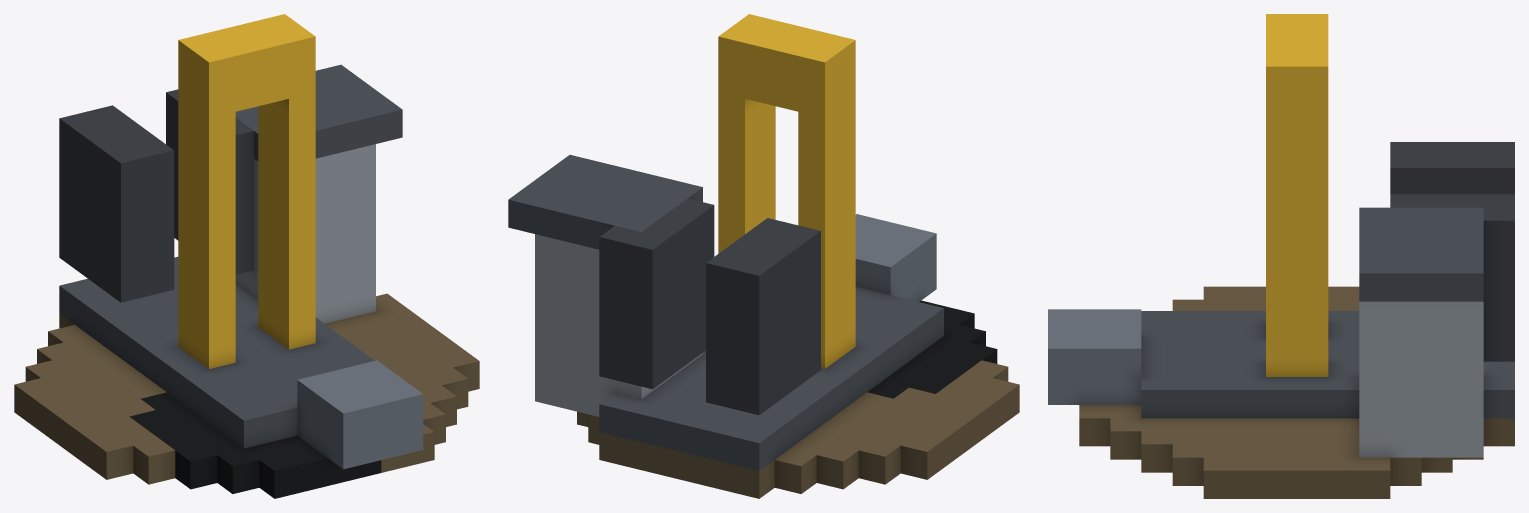
The model's file is cm_oil.glb.
3 views of the same model, side by side, from view 1: azimuth 30°, elevation 25°; view 2: azimuth 150°, elevation 25°; view 3: azimuth 270°, elevation 25° (orthographic).
Parts seen in each view (by area): view 1: cm_oil_body; view 2: cm_oil_body; view 3: cm_oil_body.
Part boxes in pixels (x1,y1,x2,y2): cm_oil_body: (14,14,479,498); cm_oil_body: (508,14,1019,498); cm_oil_body: (1048,14,1514,498).
Size of the model in its own units: 0.875 by 0.8125 by 0.9375.
1 material, 1 textured.
